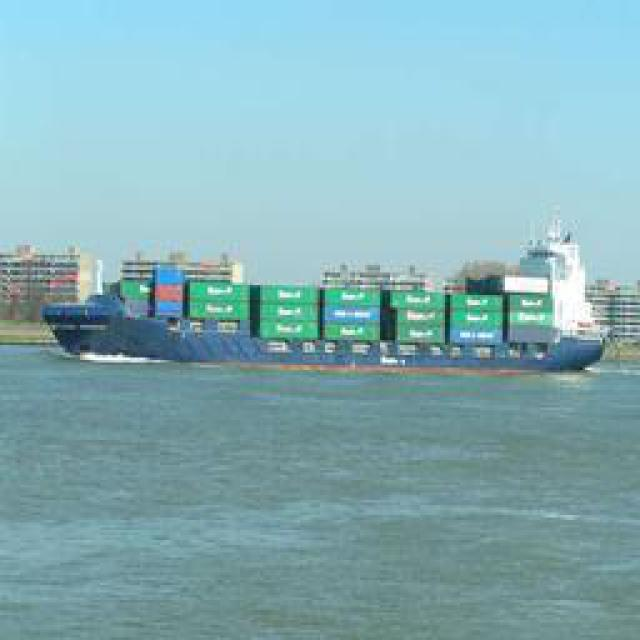Ship: (51, 226, 614, 374)
